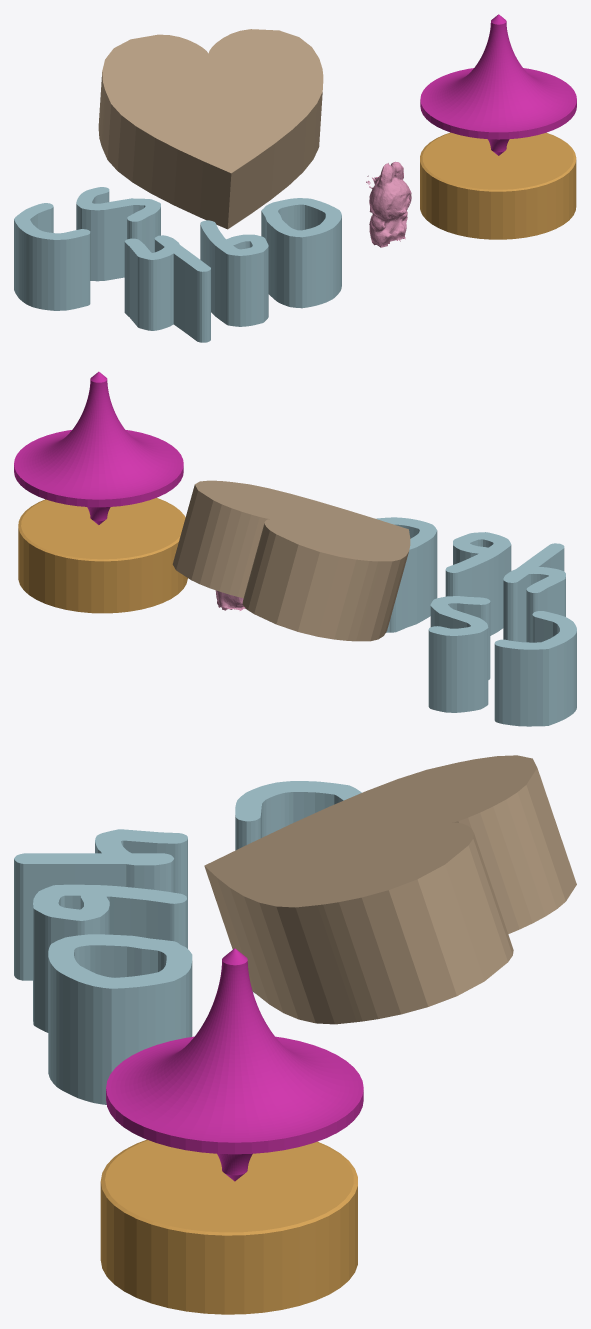
File: labubu_ar.glb
The picture shows the model from 3 angles, top to bottom: view 1: azimuth 30°, elevation 25°; view 2: azimuth 150°, elevation 25°; view 3: azimuth 270°, elevation 25°; orthographic projection. The views are drawn at different scales.
Parts seen in each view (by area): view 1: Mesh_Mesh_head_geo.001_lambert2SG.001; view 2: Mesh_Mesh_head_geo.001_lambert2SG.001; view 3: Mesh_Mesh_head_geo.001_lambert2SG.001.
Boxes of the visible parts, x1,y1,x2,y2 form: Mesh_Mesh_head_geo.001_lambert2SG.001: (14,14,576,342); Mesh_Mesh_head_geo.001_lambert2SG.001: (14,371,576,726); Mesh_Mesh_head_geo.001_lambert2SG.001: (14,755,576,1314).
Size of the model in its own units: 0.0771 by 0.027 by 0.0437.
